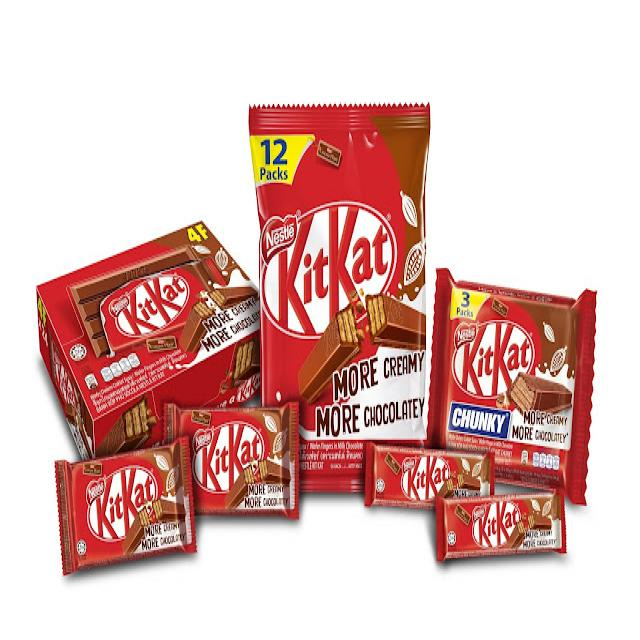kitkat: (253, 111, 424, 454), (434, 280, 589, 499), (166, 405, 307, 514), (54, 452, 198, 558), (365, 446, 503, 521), (435, 488, 569, 560)
